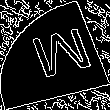M_S: (18, 24, 92, 86)
